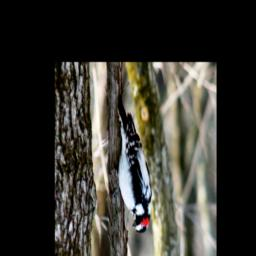Woodpecker: (113, 92, 154, 233)
